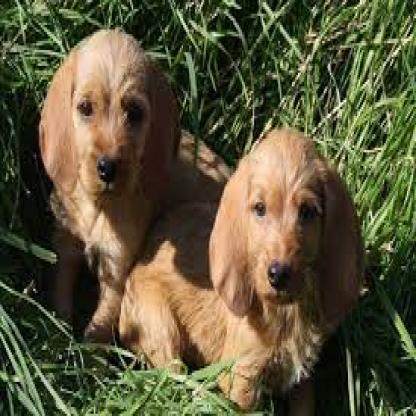American Cocker Spaniel: (204, 110, 362, 348), (37, 19, 174, 268)
